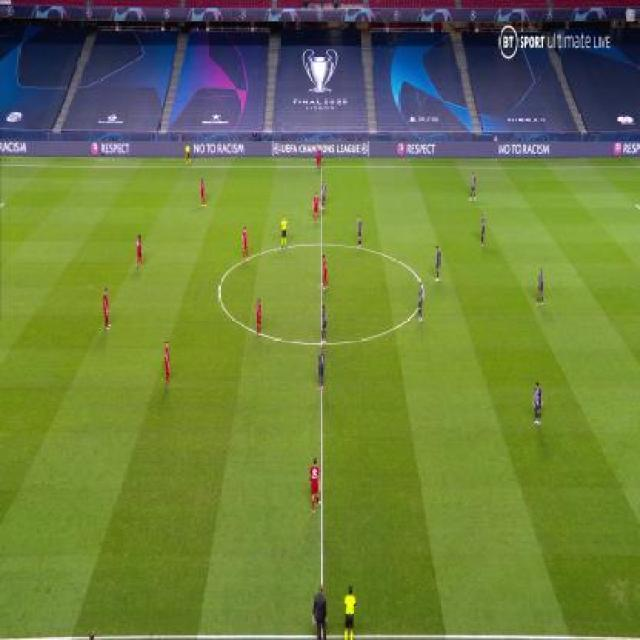player: (312, 584, 329, 640), (343, 586, 357, 640), (308, 457, 321, 514), (532, 380, 543, 428), (162, 339, 173, 387), (317, 345, 326, 393), (103, 287, 112, 332), (254, 297, 263, 339), (415, 277, 423, 322), (320, 305, 329, 345), (537, 266, 546, 306), (280, 214, 289, 251), (198, 176, 207, 209), (434, 245, 442, 282), (135, 233, 143, 270), (242, 225, 250, 262), (355, 214, 363, 250), (321, 254, 329, 290), (479, 212, 487, 246), (312, 190, 320, 224), (469, 172, 478, 201), (315, 145, 323, 176), (185, 142, 193, 167), (320, 180, 326, 213)
